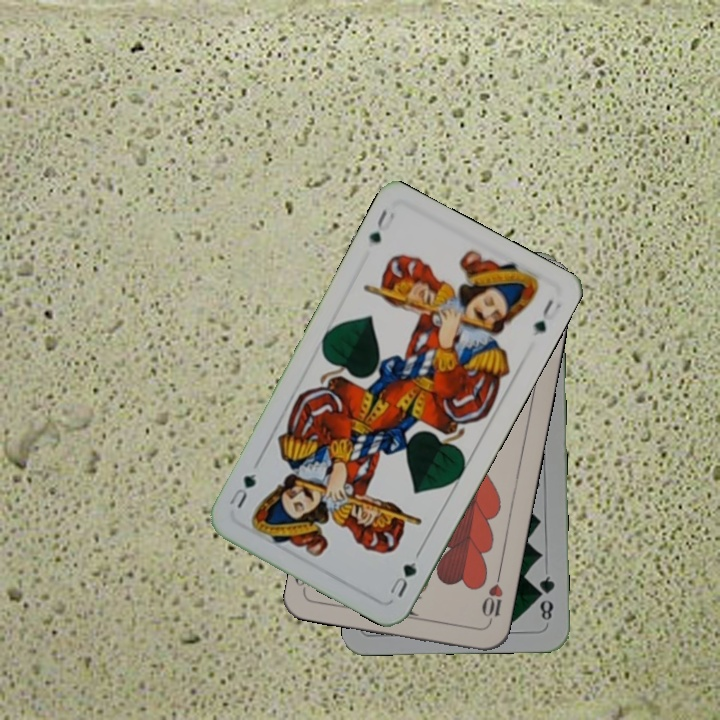G8: (534, 572, 558, 623)
GU: (386, 557, 420, 600), (365, 204, 398, 246)
H10: (477, 569, 505, 628)
